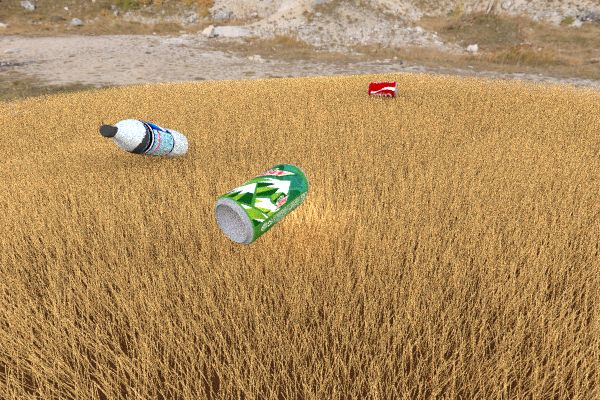bottle: (99, 119, 188, 158)
can: (215, 163, 309, 244), (367, 81, 397, 97)
